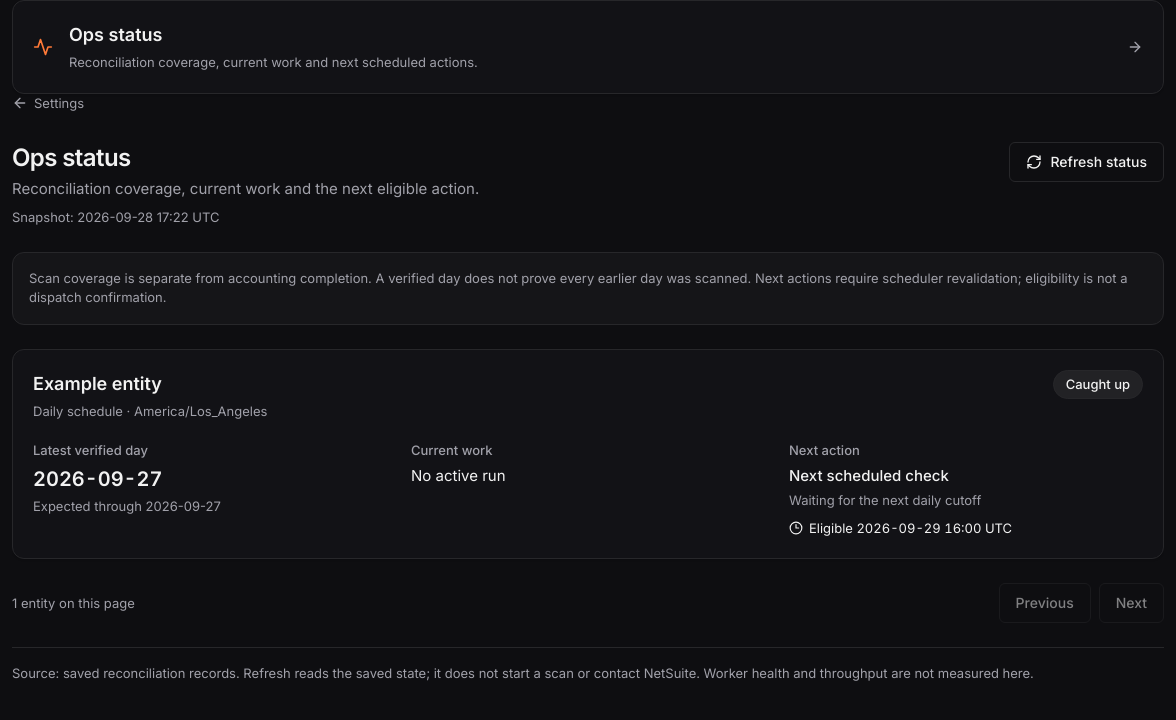
it: hides cached evidence when the API denies access
Check: the heading "Example entity" is shown, box left=33, top=373, right=162, bottom=394
Step 1. Click the button "Refresh status" → (1087, 162), box left=1010, top=142, right=1164, bottom=182
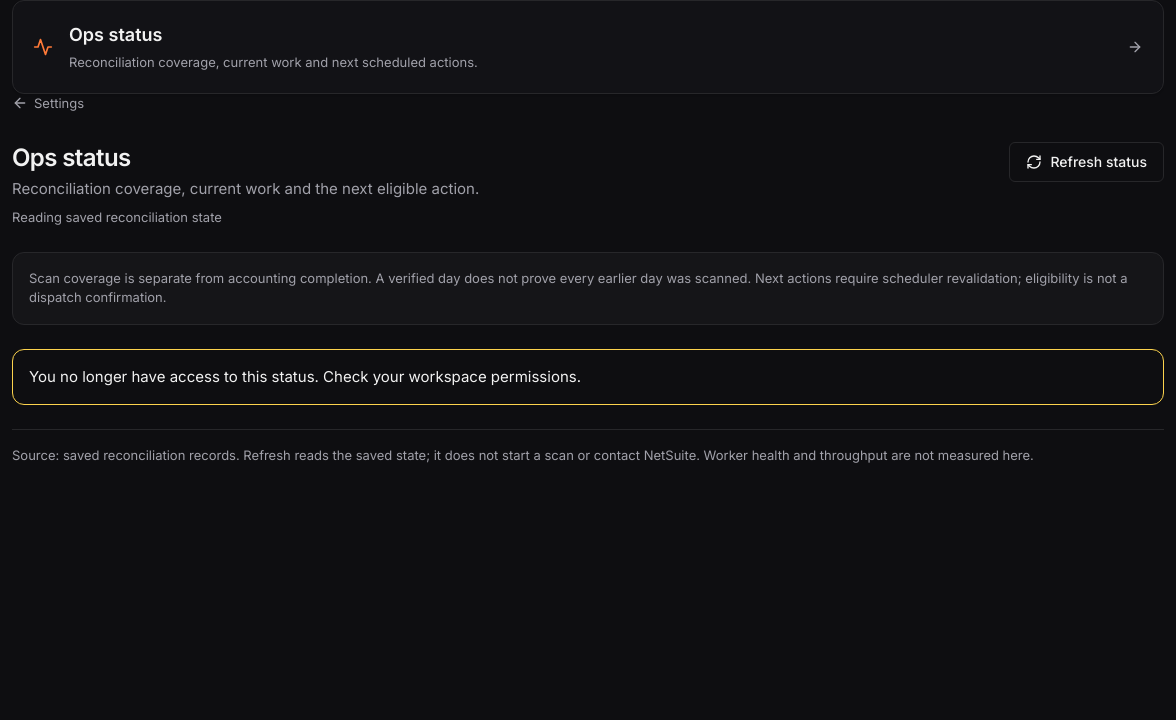
Check: the message shows "no longer have access", box left=29, top=367, right=581, bottom=386
Check: the heading "Example entity" is gone
